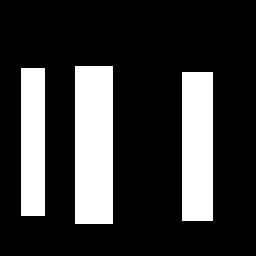person: (75, 66, 112, 223), (182, 72, 212, 220), (21, 68, 44, 215)
